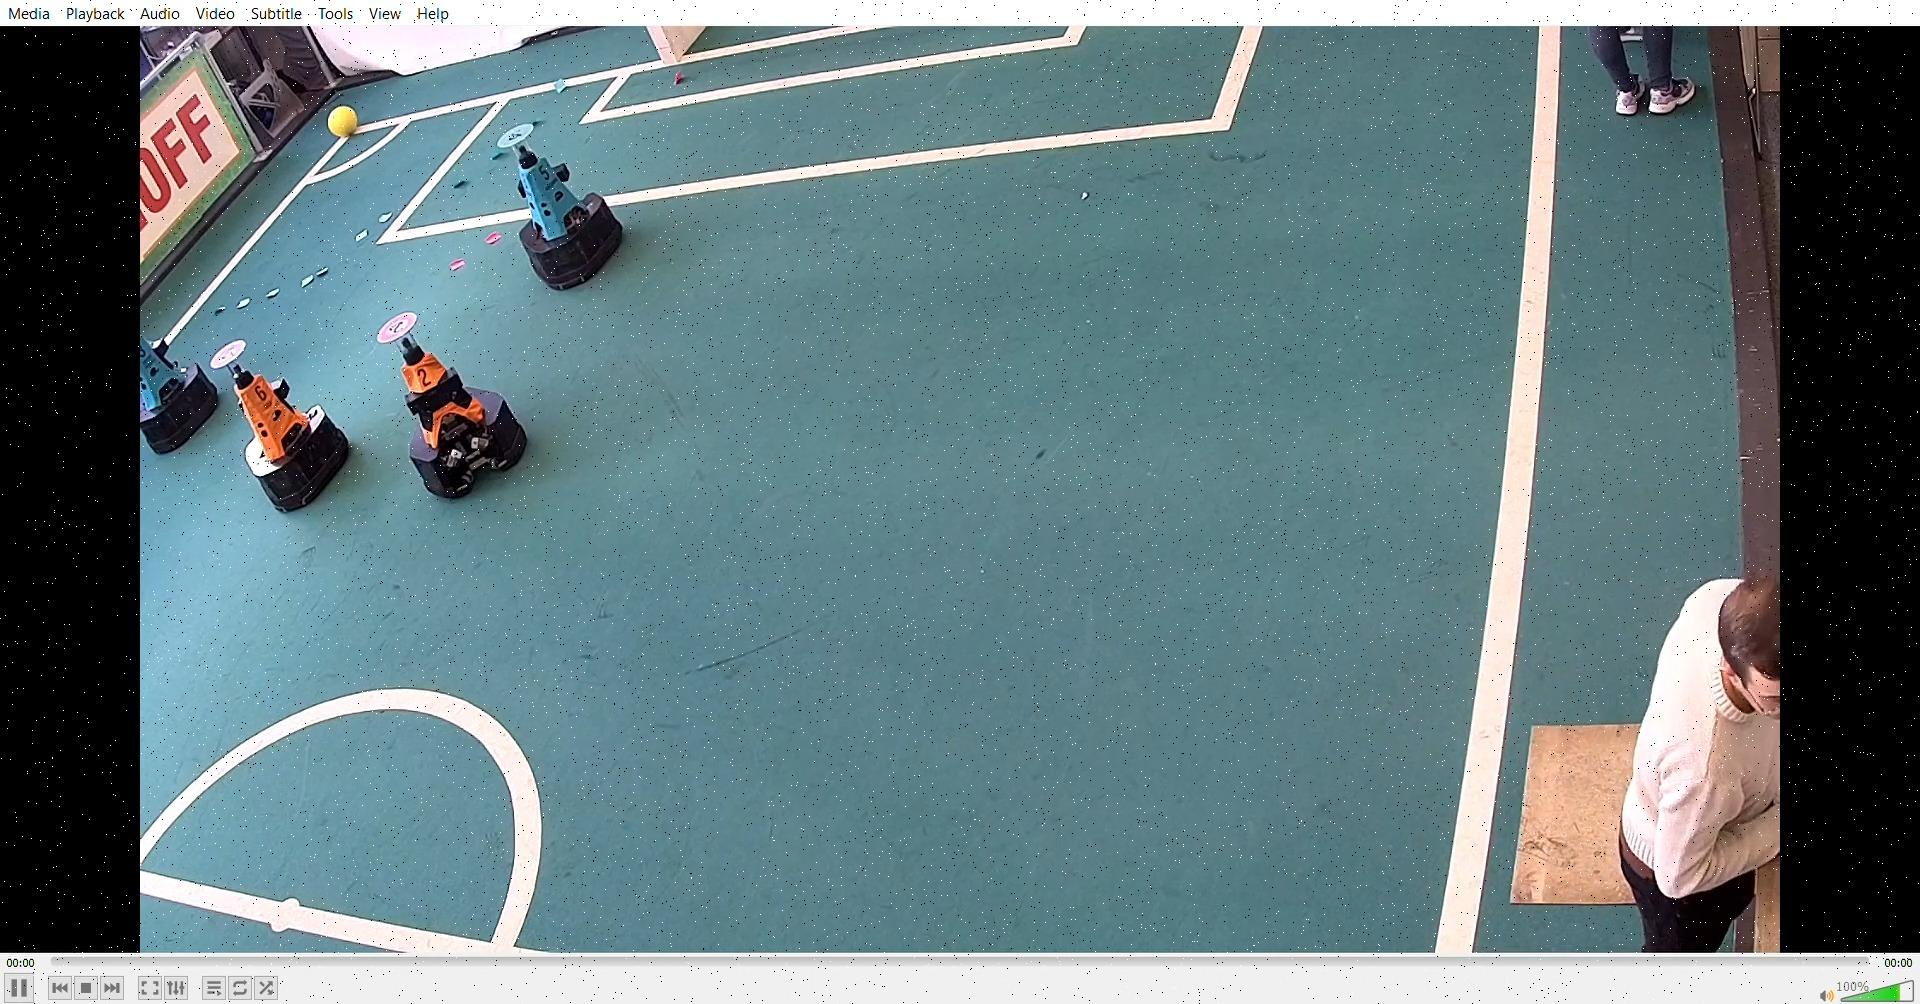Ball: (328, 103, 363, 136)
Team_Blue: (491, 116, 634, 291), (140, 319, 236, 454)
Team_Red: (373, 301, 532, 499), (212, 340, 344, 515)
